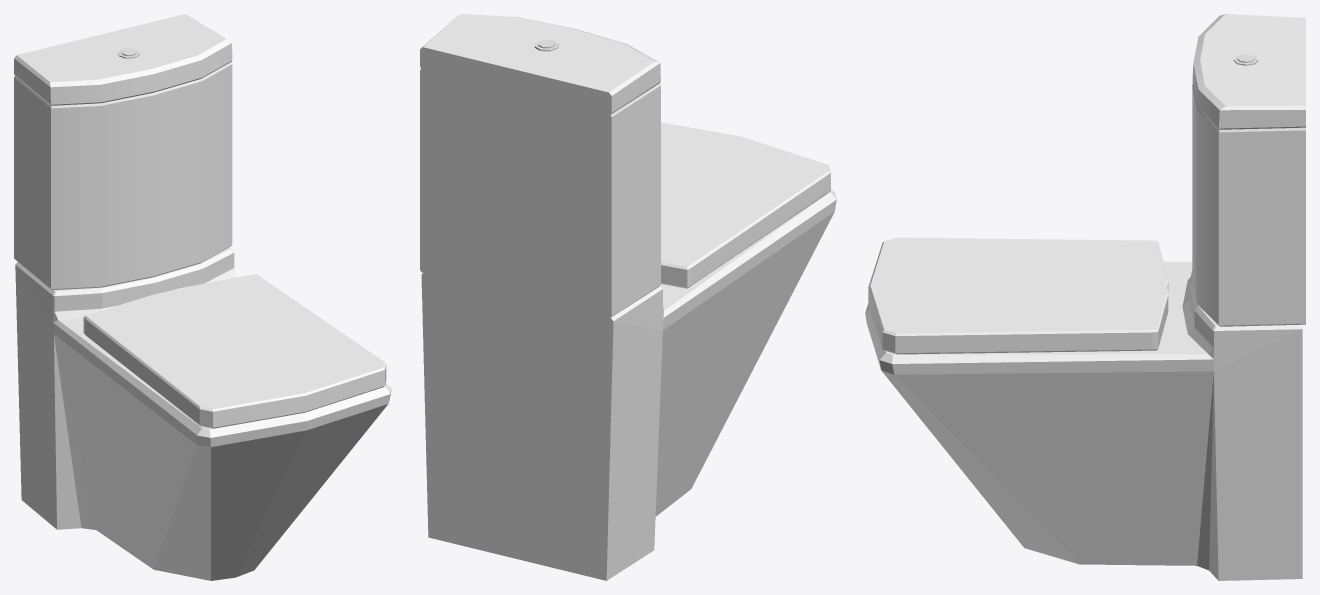
Rendered from Toilet.fbx.
3 renders of one model, left to right at view 1: azimuth 30°, elevation 25°; view 2: azimuth 150°, elevation 25°; view 3: azimuth 270°, elevation 25°, orthographic. The views are drawn at different scales.
Visible parts, largest first — view 1: Toilet; view 2: Toilet; view 3: Toilet.
Boxes of the visible parts, box(x1,y1,x2,y2) form: Toilet: box(14, 14, 391, 580); Toilet: box(420, 14, 836, 580); Toilet: box(865, 14, 1305, 580).
Size of the model in its own units: 0.5043 by 1.11 by 0.9251.
